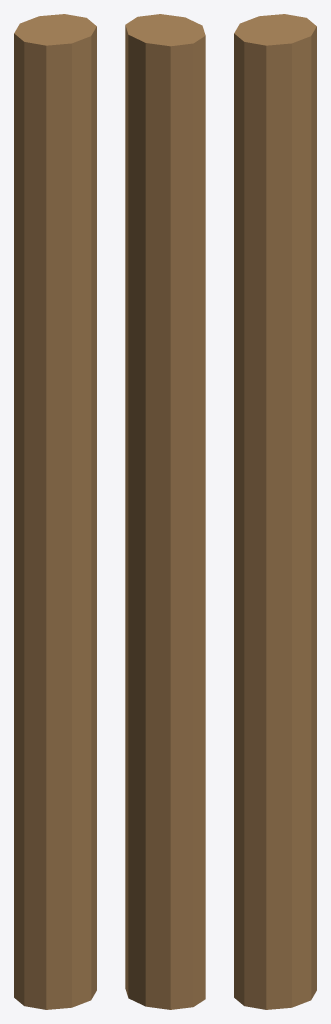
The model's file is cartel_espacio_poste_izq_lev4.glb.
The picture shows the model from 3 angles, left to right: view 1: azimuth 90°, elevation 25°; view 2: azimuth 210°, elevation 25°; view 3: azimuth 270°, elevation 25°; orthographic projection.
Parts seen in each view (by area): view 1: cartel_espacio_poste_izq_lev4; view 2: cartel_espacio_poste_izq_lev4; view 3: cartel_espacio_poste_izq_lev4.
Boxes of the visible parts, box(x1,y1,x2,y2) form: cartel_espacio_poste_izq_lev4: box(14, 14, 96, 1009); cartel_espacio_poste_izq_lev4: box(125, 14, 205, 1009); cartel_espacio_poste_izq_lev4: box(234, 14, 316, 1009).
Bounding box in the file's own units: 0.5063 × 7.19 × 0.5589.
